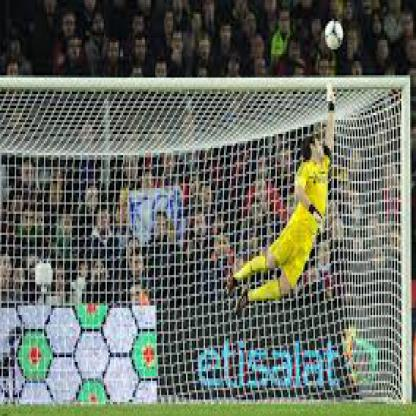goal: (272, 3, 377, 316)
